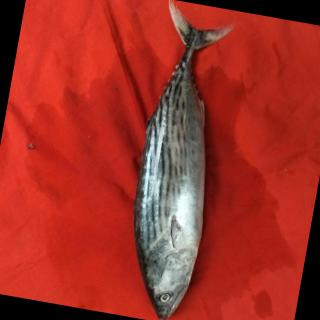Ikan: (106, 2, 251, 320)
